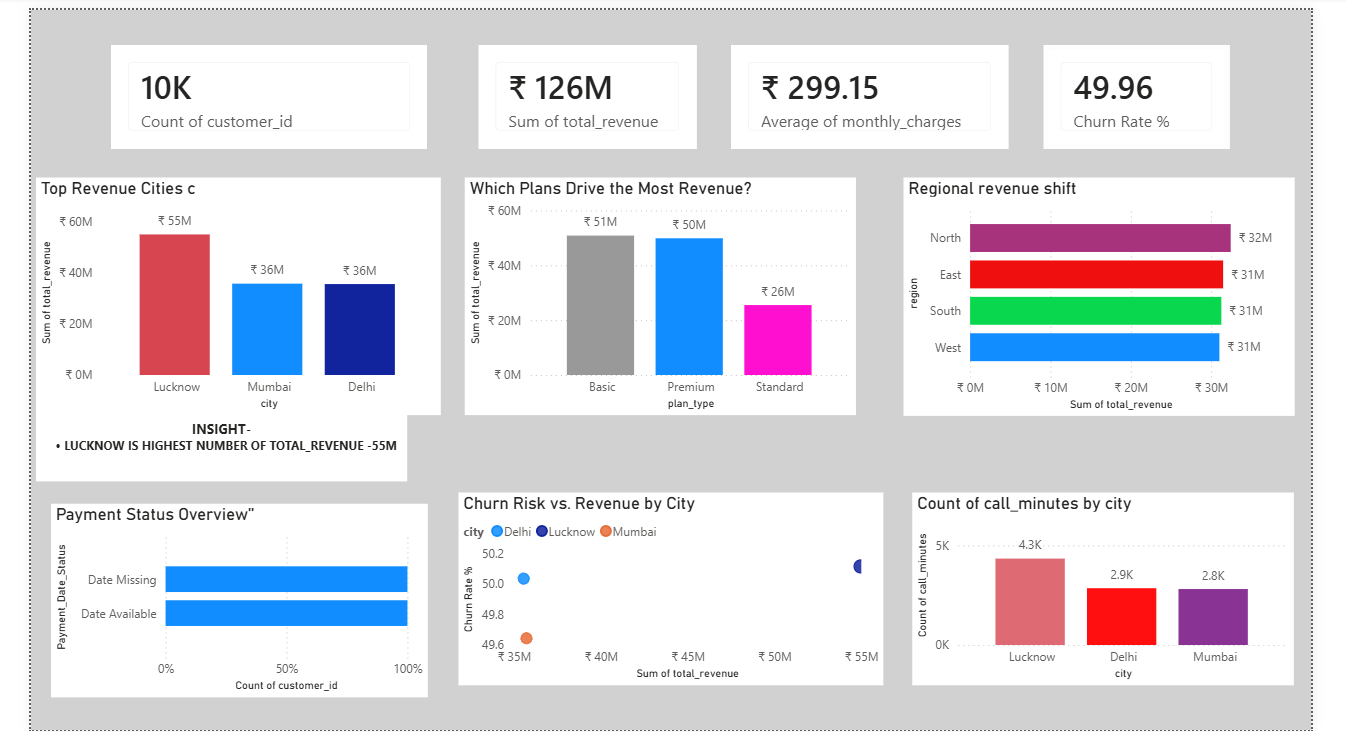

The dashboard page shown, as its layout file describes it:
{"tool":"powerbi","page":{"name":"Page 1","canvas":[1280,720],"ordinal":0},"visuals":[{"type":"cardVisual","fields":{"Data":["CountNonNull(silver telecom_clean_data.customer_id)"]},"box":[80,35,316.2,103.8],"z":0},{"type":"cardVisual","fields":{"Data":["Sum(silver telecom_clean_data.total_revenue)"]},"box":[447.5,35,218.8,103.8],"z":1000},{"type":"cardVisual","fields":{"Data":["Avg(silver telecom_clean_data.monthly_charges)"]},"box":[700,35,277.5,103.8],"z":2000},{"type":"cardVisual","fields":{"Data":["silver telecom_clean_data.Churn Rate %"]},"box":[1012.5,35,186.2,103.8],"z":3000},{"type":"columnChart","title":"Top Revenue Cities c","fields":{"Category":["silver telecom_clean_data.city"],"Y":["Sum(silver telecom_clean_data.total_revenue)"]},"box":[5,167.5,405,237.5],"z":4000},{"type":"textbox","box":[5,405,371.2,66.2],"z":5000},{"type":"clusteredColumnChart","title":"Which Plans Drive the Most Revenue?","fields":{"Category":["silver telecom_clean_data.plan_type"],"Y":["Sum(silver telecom_clean_data.total_revenue)"]},"box":[433.8,167.5,391.2,237.5],"z":6000},{"type":"hundredPercentStackedBarChart","title":"Payment Status Overview\"","fields":{"Category":["silver telecom_clean_data.Payment_Date_Status"],"Y":["CountNonNull(silver telecom_clean_data.customer_id)"]},"box":[19.6,494,376.6,193.2],"z":7000},{"type":"scatterChart","title":"Churn Risk vs. Revenue by City","fields":{"Series":["silver telecom_clean_data.city"],"Size":["CountNonNull(silver telecom_clean_data.customer_id)"],"X":["Sum(silver telecom_clean_data.total_revenue)"],"Y":["silver telecom_clean_data.Churn Rate %"]},"box":[427.5,482.5,425,192.5],"z":8000},{"type":"columnChart","fields":{"Category":["silver telecom_clean_data.city"],"Y":["CountNonNull(silver telecom_clean_data.call_minutes)"]},"box":[881.2,482.5,381.2,192.5],"z":9000},{"type":"clusteredBarChart","title":"Regional revenue shift","fields":{"Category":["silver telecom_clean_data.region"],"Y":["Sum(silver telecom_clean_data.total_revenue)"]},"box":[871.9,167.5,391.3,238.5],"z":10000}]}

Visuals, with their boxes on the page's 1280x720 design canvas (x1, y1, x2, y2). These are canvas units, not pixel positions in the 1346x732 screenshot, which may show the page scaled, cropped or inside an application window:
cardVisual - CountNonNull(silver telecom_clean_data.customer_id): 80 35 396 139
cardVisual - Sum(silver telecom_clean_data.total_revenue): 448 35 666 139
cardVisual - Avg(silver telecom_clean_data.monthly_charges): 700 35 978 139
cardVisual - silver telecom_clean_data.Churn Rate %: 1012 35 1199 139
"Top Revenue Cities c" columnChart: 5 168 410 405
textbox: 5 405 376 471
"Which Plans Drive the Most Revenue?" clusteredColumnChart: 434 168 825 405
"Payment Status Overview"" hundredPercentStackedBarChart: 20 494 396 687
"Churn Risk vs. Revenue by City" scatterChart: 428 482 852 675
columnChart - silver telecom_clean_data.city x CountNonNull(silver telecom_clean_data.call_minutes): 881 482 1262 675
"Regional revenue shift" clusteredBarChart: 872 168 1263 406
